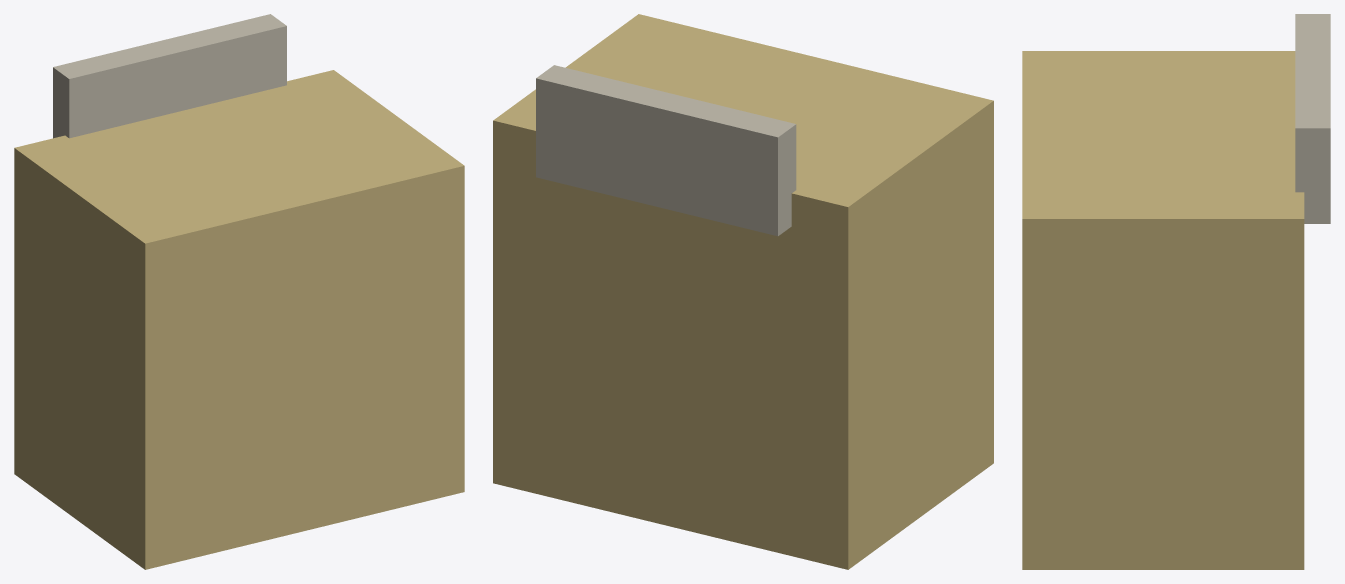
Rendered from iz2_item_dirty_water_jar.glb.
3 renders of one model, left to right at view 1: azimuth 30°, elevation 25°; view 2: azimuth 150°, elevation 25°; view 3: azimuth 270°, elevation 25°, orthographic. The views are drawn at different scales.
Parts seen in each view (by area): view 1: body; view 2: body; view 3: body.
Boxes of the visible parts, left/top/right/bottom form: body: left=14, top=14, right=464, bottom=569; body: left=493, top=14, right=993, bottom=569; body: left=1022, top=14, right=1330, bottom=569.
Size of the model in its own units: 0.2198 by 0.2535 by 0.1706.
